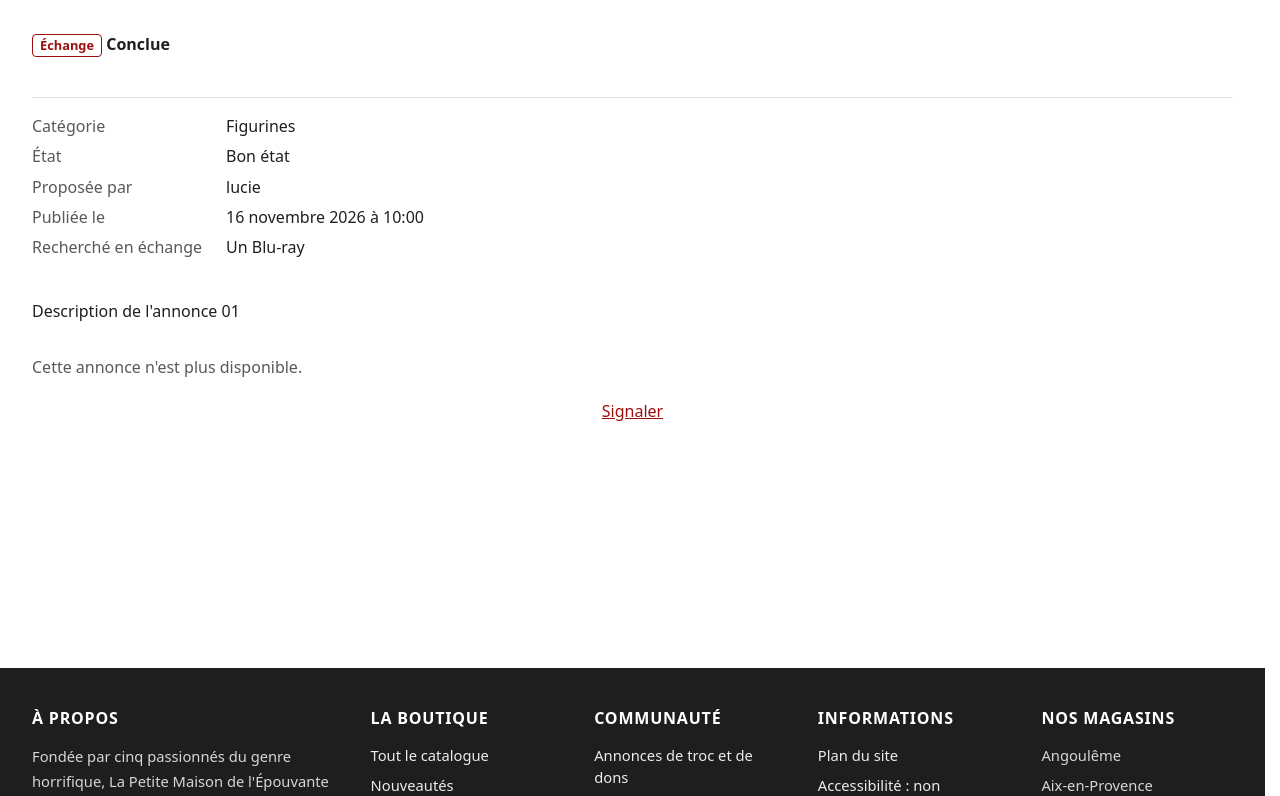
Test: Détail d'une annonce › indique qu'une annonce conclue n'est plus disponible et permet de la signaler
(page scrolled)
Check: the text "Cette annonce n'est plus disponible." is shown, box [32,356,302,378]
Click the button named "Signaler cette annonce" at [632, 411], box [32,395,1233,427]
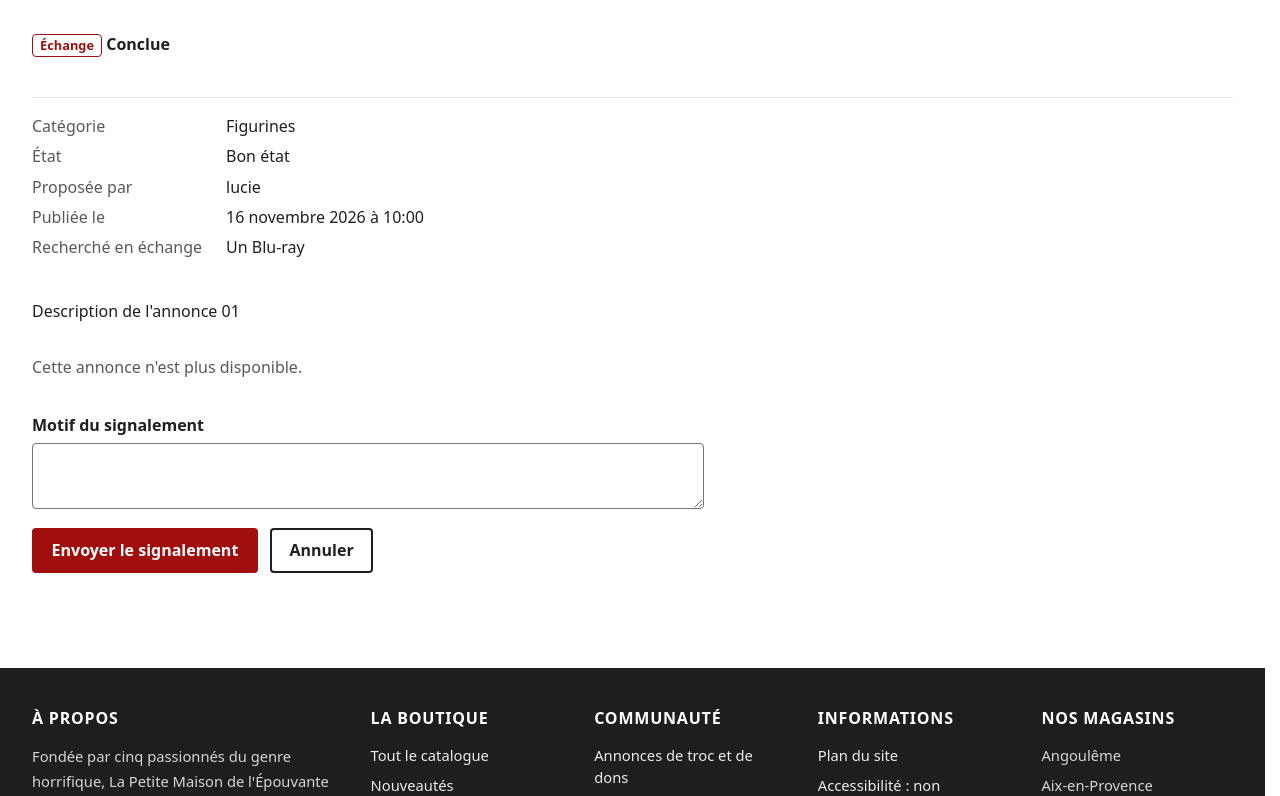
Type "Vente déguisée" into the text box labelled "Motif du signalement" at [368, 476], box [32,443,704,509]
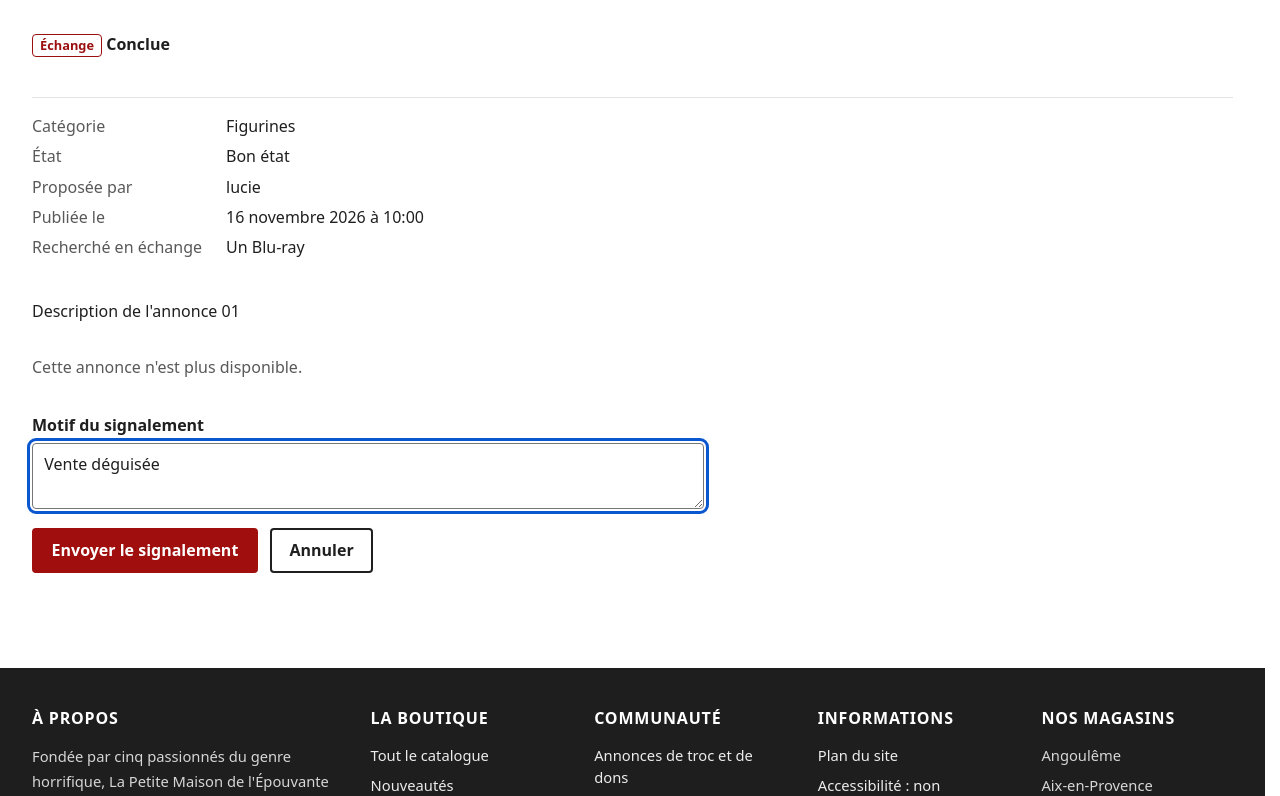
Click the button "Envoyer le signalement" at [145, 550], box [32,528,258,573]
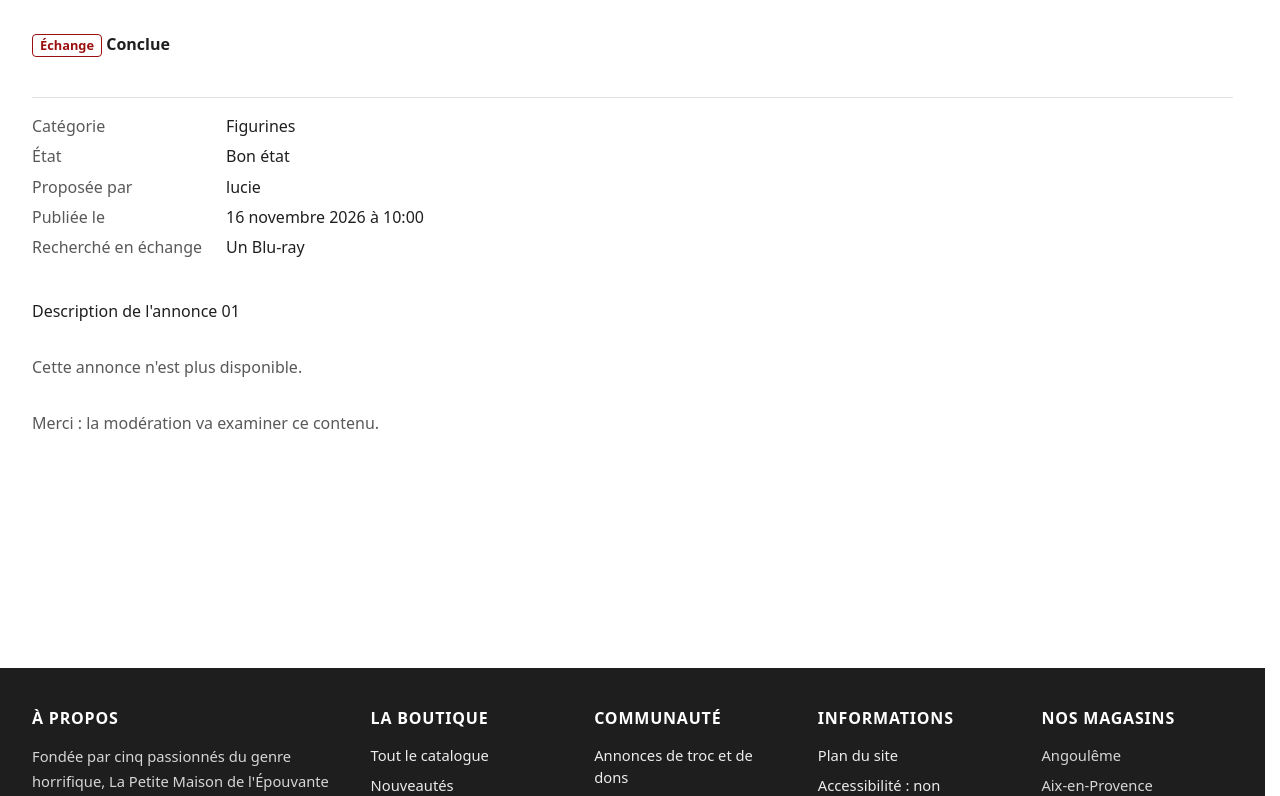
Check: the text "Merci : la modération va examiner ce contenu." is shown, box [32,412,379,434]
